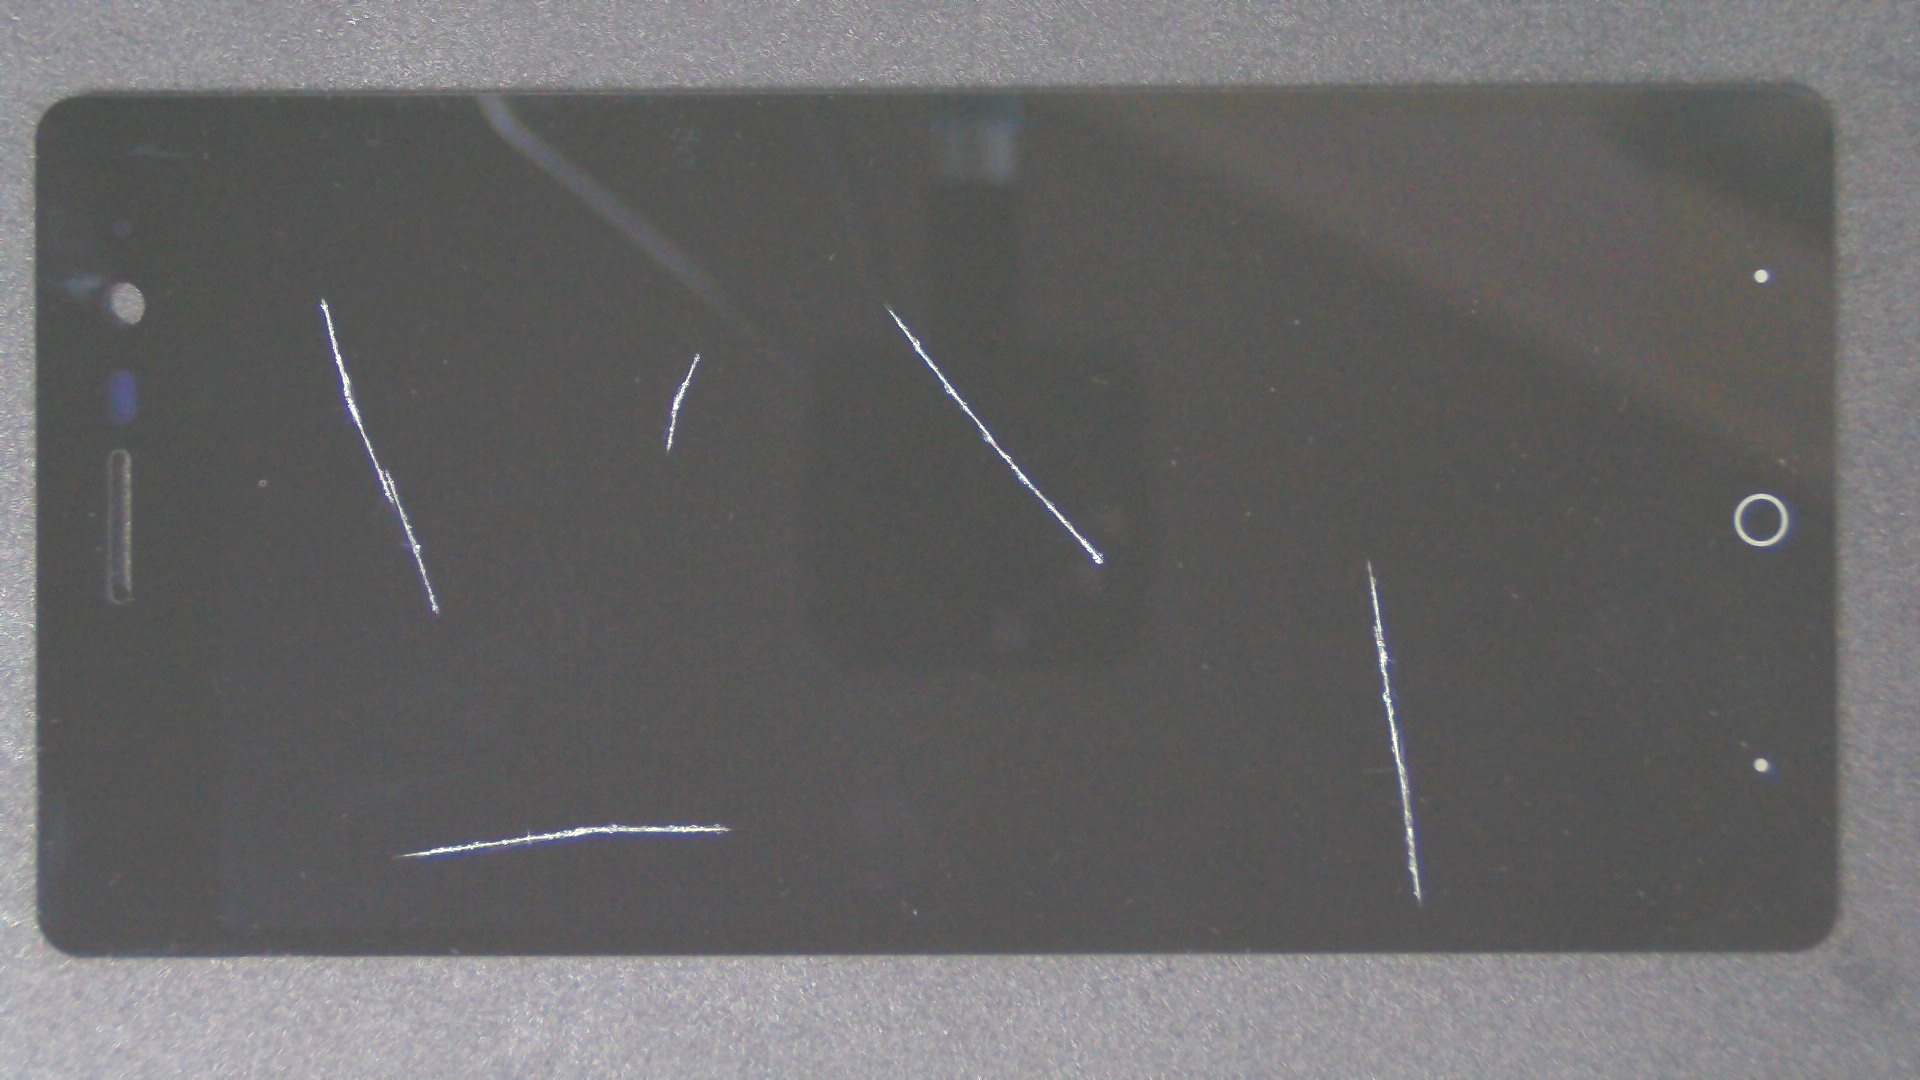oil: (684, 280, 1920, 840), (357, 410, 1071, 1080), (443, 152, 1328, 456), (349, 175, 1047, 529), (162, 148, 484, 447)
